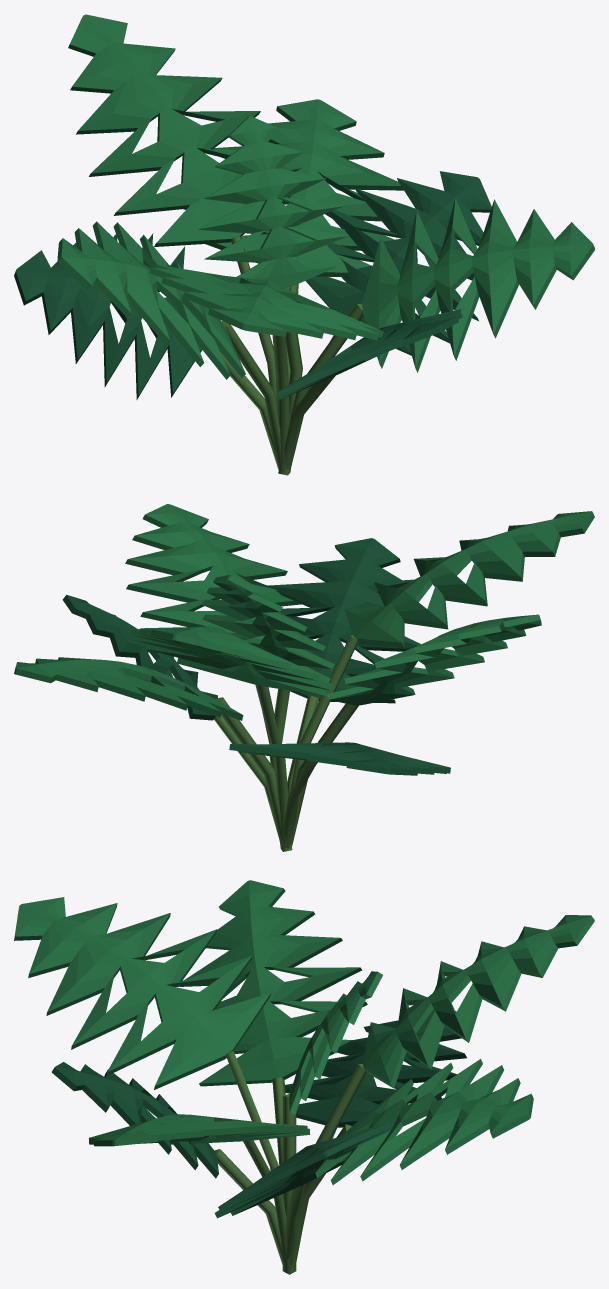
The model's file is bush-monstera.glb.
The picture shows the model from 3 angles, top to bottom: view 1: azimuth 30°, elevation 25°; view 2: azimuth 150°, elevation 25°; view 3: azimuth 270°, elevation 25°; orthographic projection. The views are drawn at different scales.
Visible parts, largest first — view 1: Big split monstera leaf 3, Big split monstera leaf 8, Young split monstera leaf, Big split monstera leaf 2, Big split monstera leaf 5, Big split monstera leaf 1, Big split monstera leaf 4, Big split monstera leaf 6, Big split monstera leaf 7, Curved monstera stem.004, Curved monstera stem.005, Curved monstera stem.006 (+4 smaller); view 2: Big split monstera leaf 6, Big split monstera leaf 8, Big split monstera leaf 7, Big split monstera leaf 5, Big split monstera leaf 3, Big split monstera leaf 2, Young split monstera leaf, Big split monstera leaf 4, Big split monstera leaf 1, Curved monstera stem.002, Curved monstera stem.001, Curved monstera stem.005 (+5 smaller); view 3: Big split monstera leaf 6, Big split monstera leaf 5, Big split monstera leaf 3, Big split monstera leaf 2, Big split monstera leaf 4, Big split monstera leaf 7, Big split monstera leaf 8, Big split monstera leaf 1, Young split monstera leaf, Curved monstera stem.006, Curved monstera stem.002, Curved monstera stem.005 (+5 smaller).
Boxes of the visible parts, <box> form: Big split monstera leaf 3: <box>68,14,290,246</box>; Big split monstera leaf 8: <box>362,198,594,372</box>; Young split monstera leaf: <box>198,116,347,288</box>; Big split monstera leaf 2: <box>183,99,403,276</box>; Big split monstera leaf 5: <box>57,221,245,379</box>; Big split monstera leaf 1: <box>305,171,491,355</box>; Big split monstera leaf 4: <box>14,233,202,399</box>; Big split monstera leaf 6: <box>149,264,383,340</box>; Big split monstera leaf 7: <box>277,309,462,399</box>; Curved monstera stem.004: <box>221,321,281,470</box>; Curved monstera stem.005: <box>272,335,289,471</box>; Curved monstera stem.006: <box>280,375,335,469</box>; Big split monstera leaf 6: <box>344,511,594,647</box>; Big split monstera leaf 8: <box>125,504,301,639</box>; Big split monstera leaf 7: <box>268,538,420,703</box>; Big split monstera leaf 5: <box>326,614,541,705</box>; Big split monstera leaf 3: <box>131,626,333,696</box>; Big split monstera leaf 2: <box>14,657,243,720</box>; Young split monstera leaf: <box>202,574,334,682</box>; Big split monstera leaf 4: <box>229,742,450,775</box>; Big split monstera leaf 1: <box>62,595,217,720</box>; Curved monstera stem.002: <box>255,684,288,847</box>; Curved monstera stem.001: <box>215,697,282,846</box>; Curved monstera stem.005: <box>290,635,357,792</box>; Big split monstera leaf 6: <box>14,897,270,1089</box>; Big split monstera leaf 5: <box>180,880,367,1086</box>; Big split monstera leaf 3: <box>363,915,594,1088</box>; Big split monstera leaf 2: <box>315,1059,533,1184</box>; Big split monstera leaf 4: <box>285,1009,466,1127</box>; Big split monstera leaf 7: <box>52,1062,218,1178</box>; Big split monstera leaf 8: <box>89,1114,309,1146</box>; Big split monstera leaf 1: <box>215,1122,394,1218</box>; Young split monstera leaf: <box>289,971,382,1114</box>; Curved monstera stem.006: <box>214,1149,284,1265</box>; Curved monstera stem.002: <box>296,1064,366,1261</box>; Curved monstera stem.005: <box>226,1050,282,1194</box>.
Bounding box in the file's own units: 1.51 × 1.09 × 1.71.
